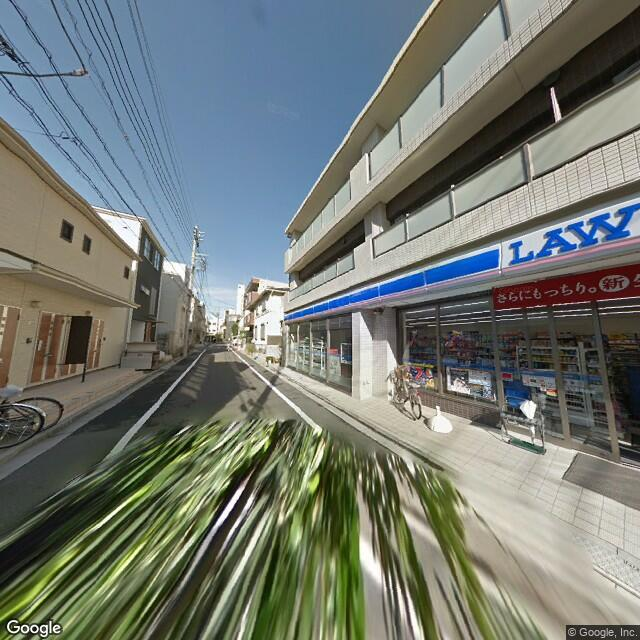lawson: (284, 193, 639, 324)
